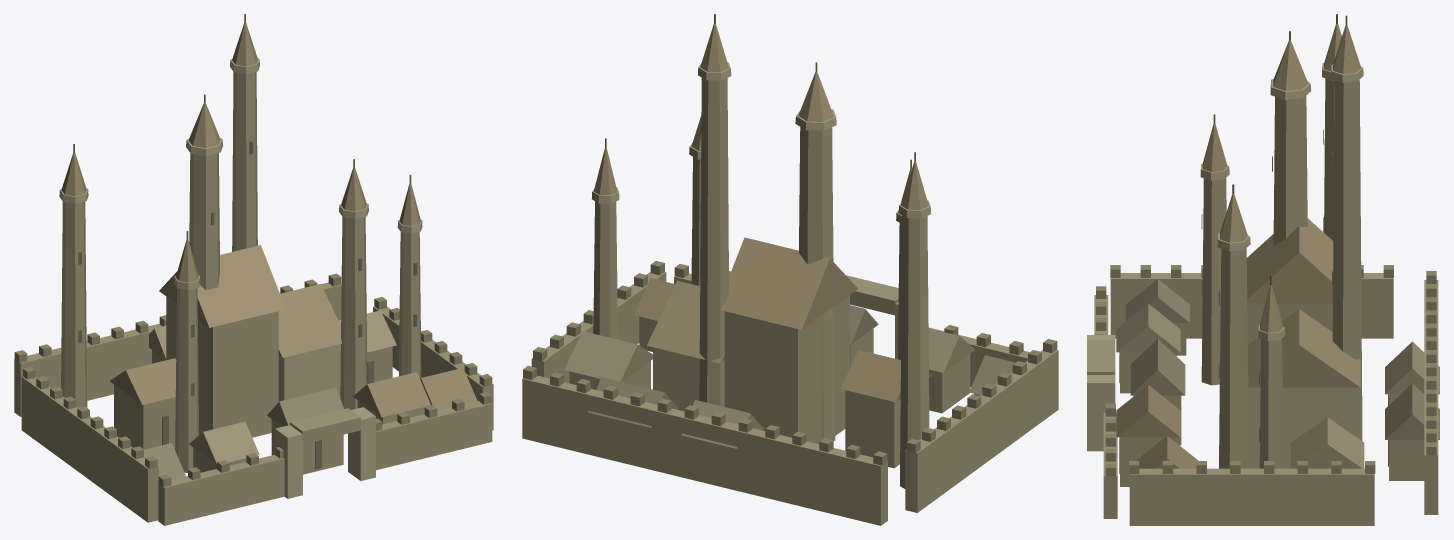
The model's file is castle.glb.
The picture shows the model from 3 angles, left to right: view 1: azimuth 30°, elevation 25°; view 2: azimuth 150°, elevation 25°; view 3: azimuth 270°, elevation 25°; orthographic projection. The views are drawn at different scales.
Parts seen in each view (by area): view 1: castle; view 2: castle; view 3: castle.
Boxes of the visible parts, left/top/right/bottom form: castle: left=14, top=14, right=493, bottom=525; castle: left=522, top=14, right=1058, bottom=525; castle: left=1087, top=14, right=1439, bottom=525.
Bounding box in the file's own units: 48.5 × 50 × 37.4.
